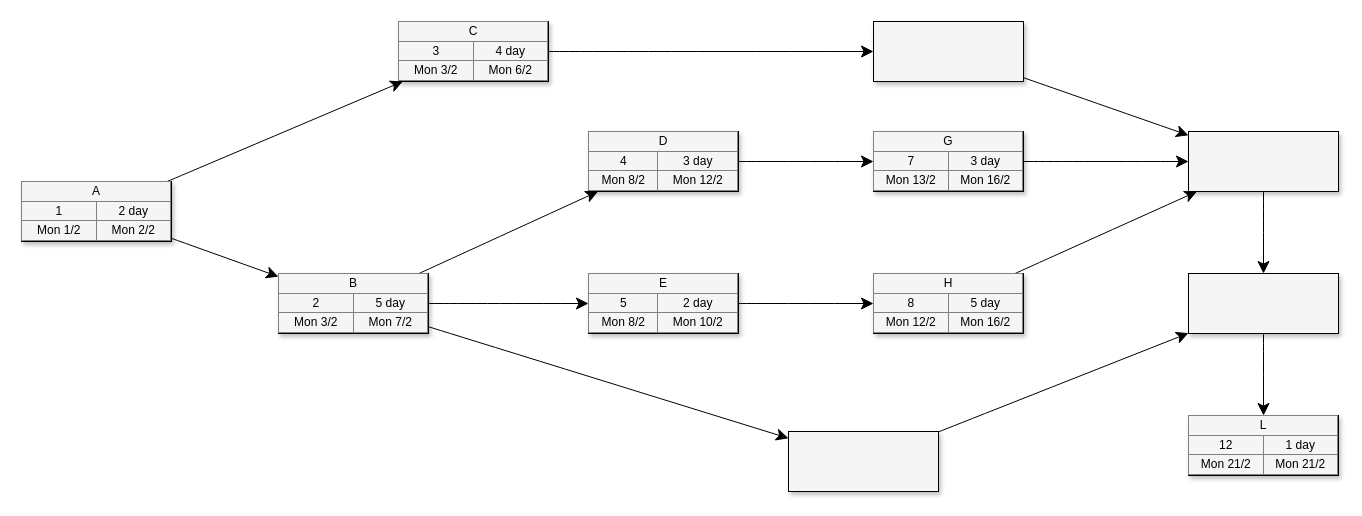
Image size: 1362x516. Some labels were removed from this diagram. The shapes that lost their labels are listed below. From the top down, each one's centre as x and y in pixels, then its label:
At point 949,52: "F 6 7 day Mon 7/2 Mon 16/2".
At point 1264,162: "J 10 2 day Mon 17/2 Mon 19/2".
At point 1264,304: "K 11 1 day Mon 20/2 Mon 21/2".
At point 864,462: "I 9 8 day Mon 8/2 Mon 15/2".
